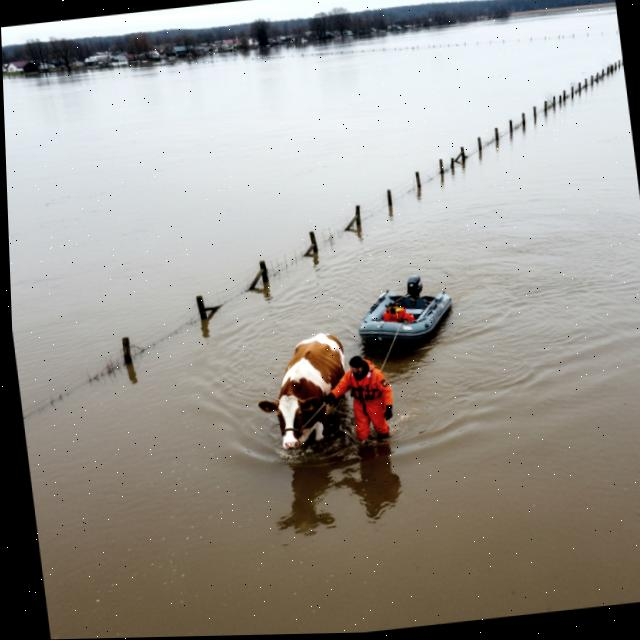cow: (248, 322, 356, 460)
rescuer: (314, 344, 409, 455)
